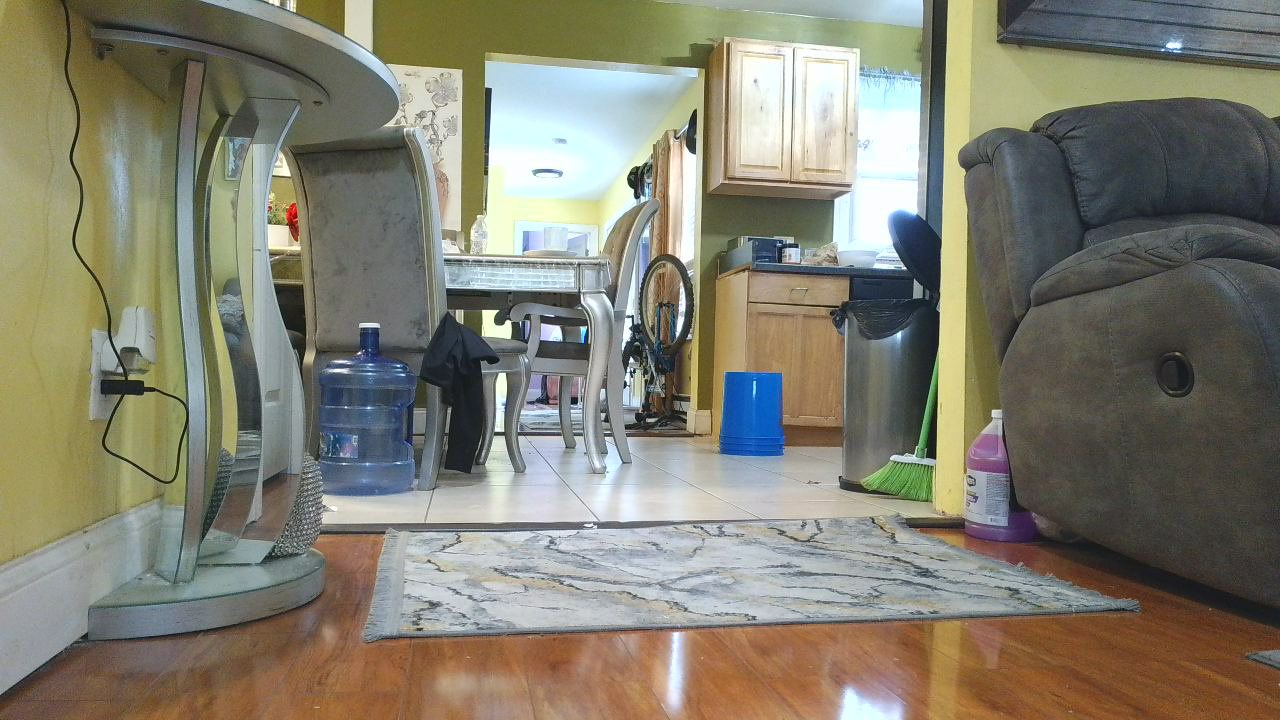blue_bucket: (718, 372, 796, 468)
